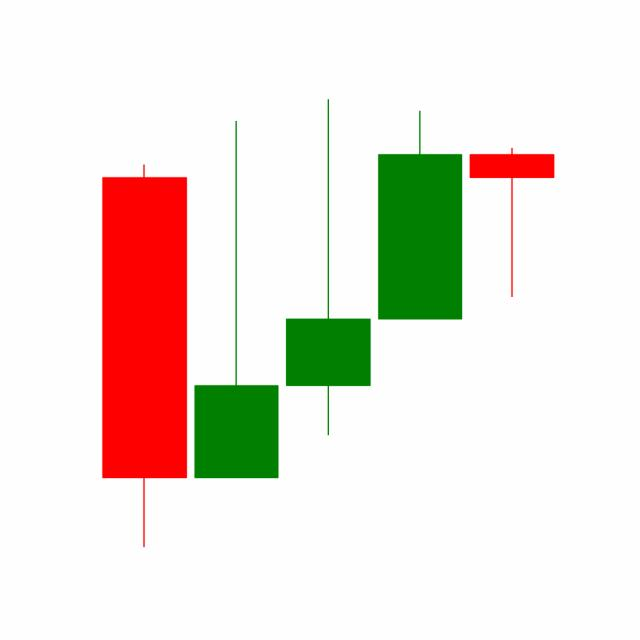Hammer: (464, 146, 558, 298)
